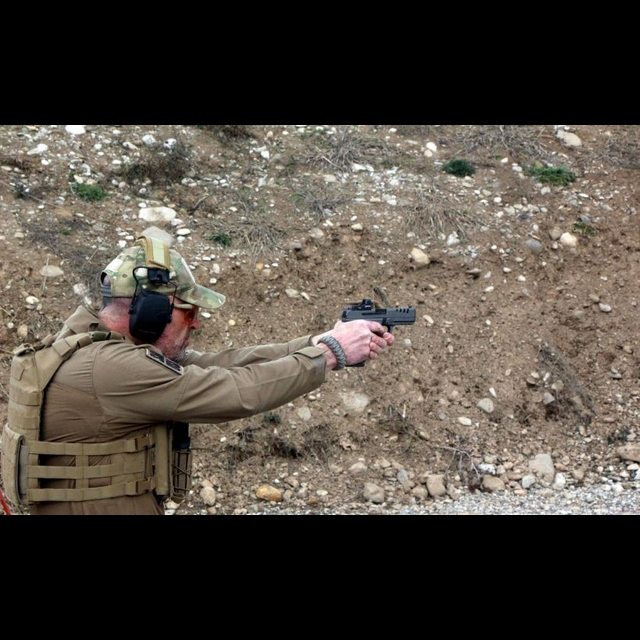SILAH: (337, 294, 418, 367)
